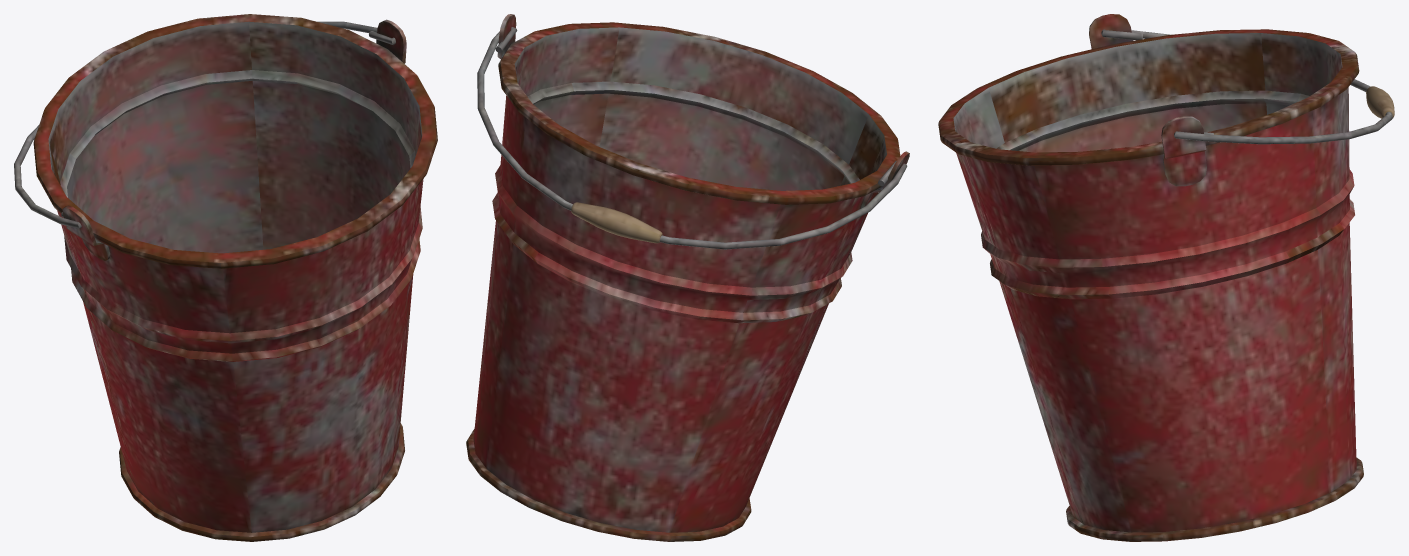
The model's file is rusted_bucket.glb.
3 views of the same model, side by side, from view 1: azimuth 30°, elevation 25°; view 2: azimuth 150°, elevation 25°; view 3: azimuth 270°, elevation 25° (orthographic). The views are drawn at different scales.
Parts seen in each view (by area): view 1: bucket_low; view 2: bucket_low; view 3: bucket_low.
Boxes of the visible parts, box(x1,y1,x2,y2) form: bucket_low: box(14, 14, 437, 541); bucket_low: box(466, 14, 909, 541); bucket_low: box(938, 14, 1394, 541).
Size of the model in its own units: 367 by 426 by 375.
4 materials, 4 textured.
